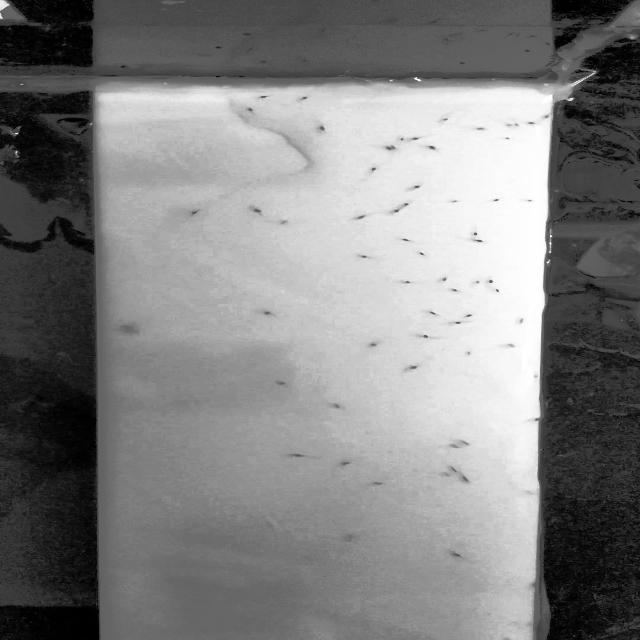shrimp: (406, 353, 436, 370), (346, 210, 374, 224), (282, 452, 313, 462), (441, 548, 466, 560), (341, 529, 361, 542), (417, 331, 449, 339), (268, 378, 293, 388), (182, 208, 206, 218), (396, 278, 422, 287), (456, 435, 473, 448), (498, 340, 520, 350), (422, 144, 442, 155), (354, 251, 378, 260), (442, 288, 468, 296), (449, 319, 478, 326), (478, 197, 500, 206), (364, 339, 388, 347), (456, 313, 479, 321), (458, 477, 478, 486), (299, 95, 317, 105), (277, 218, 299, 226), (391, 205, 407, 216), (438, 116, 457, 125), (409, 134, 428, 143), (369, 477, 386, 487), (435, 272, 447, 286), (410, 181, 431, 189), (438, 198, 462, 205), (425, 308, 443, 317), (330, 401, 350, 409), (260, 90, 276, 100), (522, 122, 542, 130), (251, 207, 268, 215), (448, 465, 463, 474), (468, 237, 487, 244), (264, 310, 286, 316), (338, 458, 354, 466), (402, 200, 418, 208), (516, 198, 534, 205), (486, 277, 499, 286), (376, 146, 395, 152), (500, 133, 514, 141), (505, 121, 522, 127), (463, 348, 473, 358), (365, 167, 376, 176), (488, 286, 504, 292), (414, 251, 430, 257), (320, 123, 330, 132), (514, 318, 526, 325), (470, 278, 480, 286), (538, 112, 548, 120), (472, 225, 478, 238), (398, 238, 413, 243), (446, 445, 461, 449), (473, 128, 492, 131), (247, 105, 252, 114)
